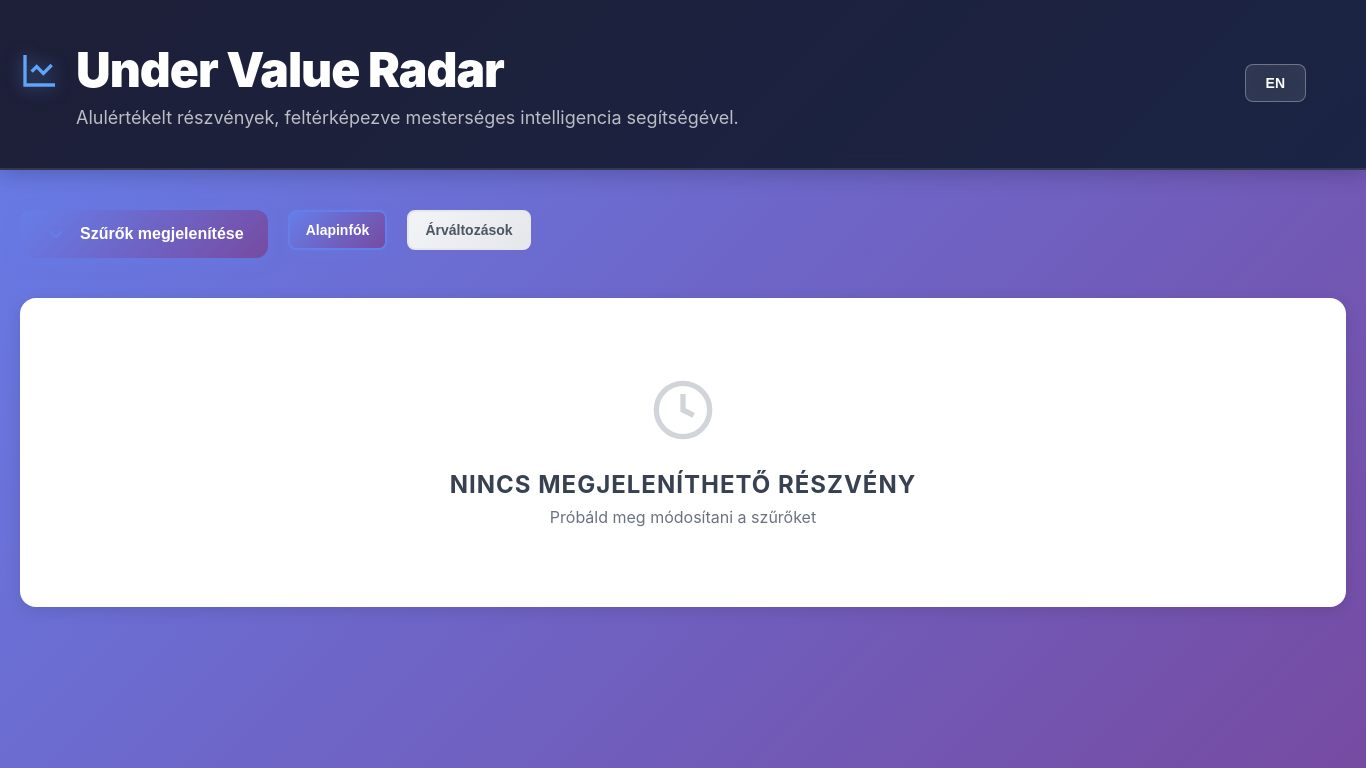
App › component composition › should render StockFilters component when toggled
// Open filters
Click the button with class "filters-toggle-btn" at (144, 234), box [20,210,268,258]
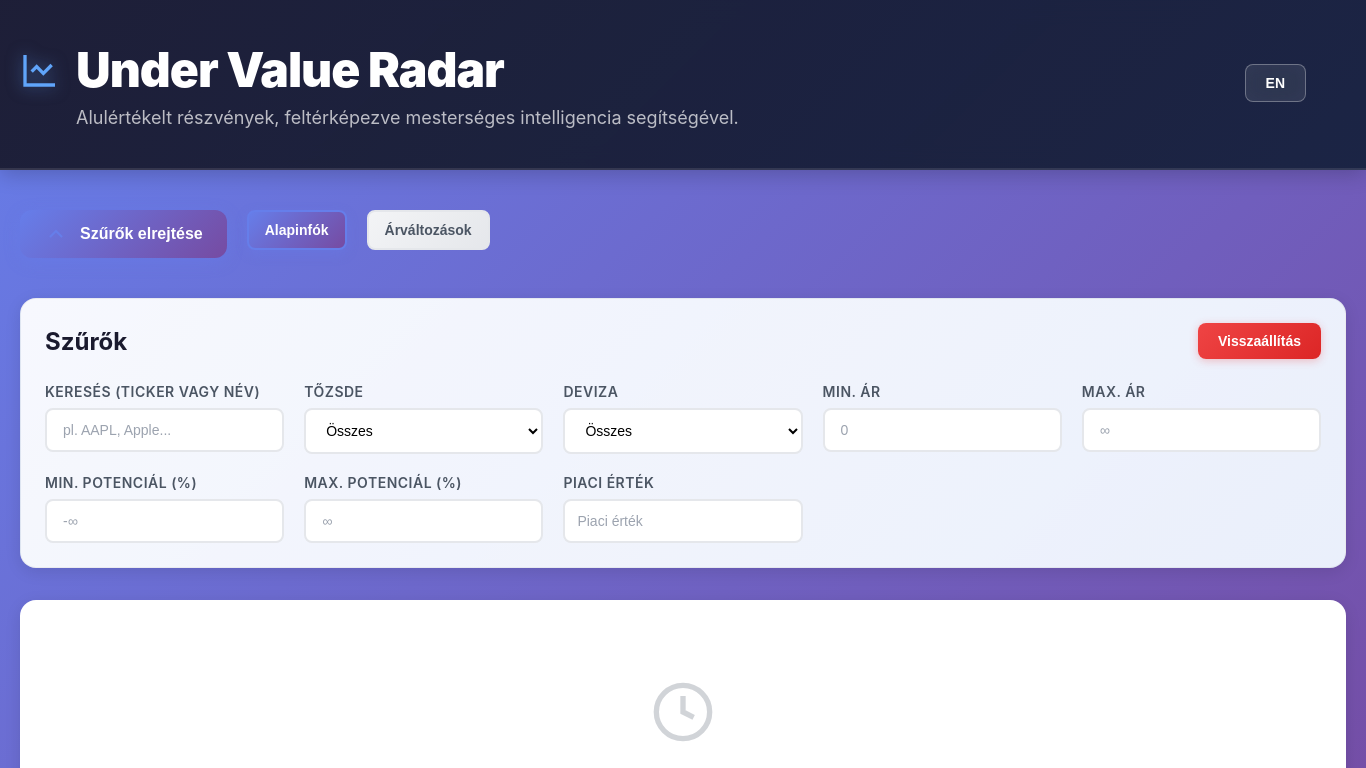
expect the element that starts with "Szűrők" is shown: met, box [20,298,1346,568]
